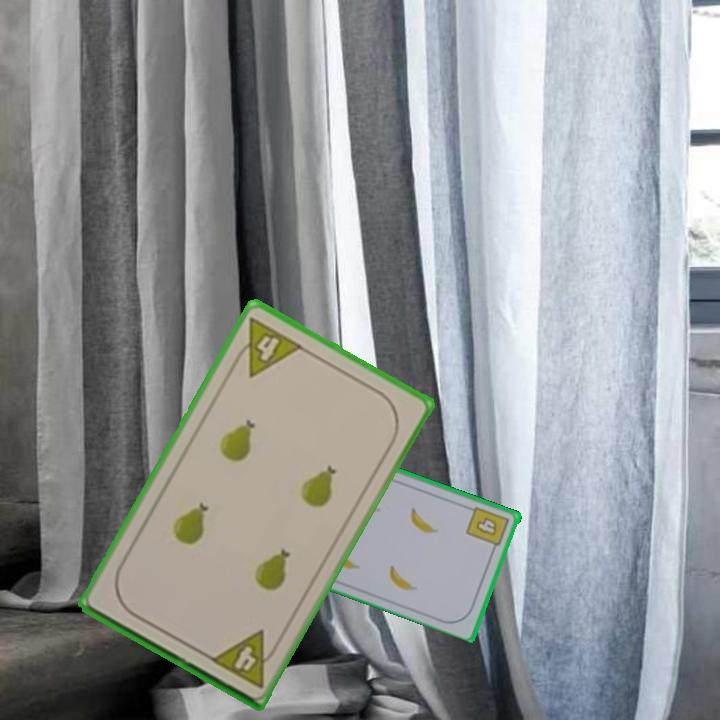4b: (463, 503, 513, 554)
4p: (227, 313, 306, 380), (206, 626, 283, 691)
